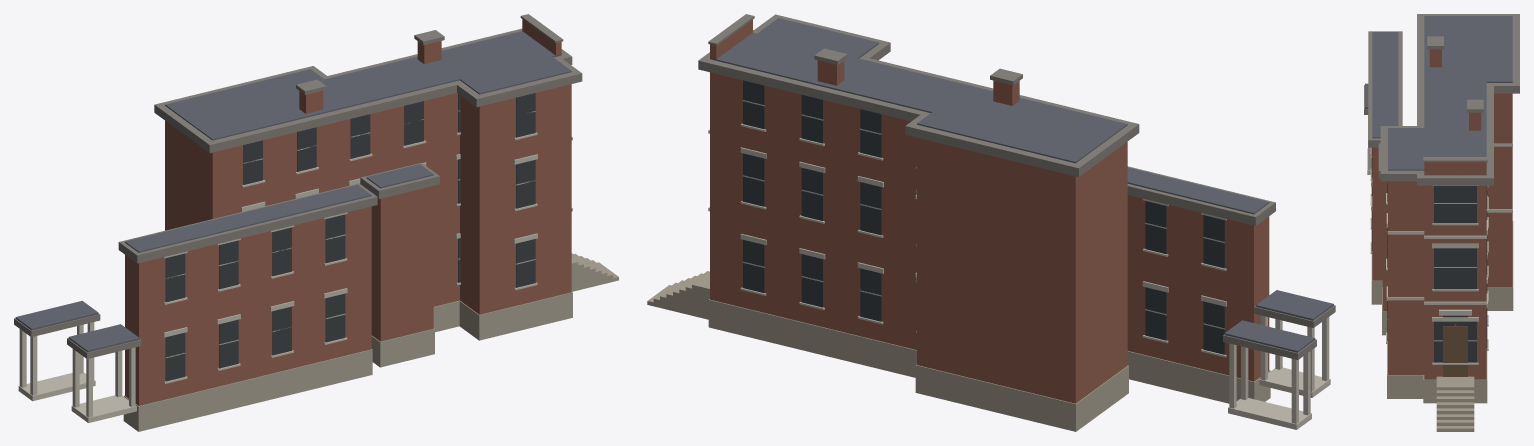
File: reid_house_2013_prairie__draft_1904.glb
The picture shows the model from 3 angles, left to right: view 1: azimuth 30°, elevation 25°; view 2: azimuth 150°, elevation 25°; view 3: azimuth 270°, elevation 25°; orthographic projection. The views are drawn at different scales.
Parts seen in each view (by area): view 1: reid_house_2013_prairie__draft_1904; view 2: reid_house_2013_prairie__draft_1904; view 3: reid_house_2013_prairie__draft_1904.
Part boxes in pixels (left/top/right/bottom): reid_house_2013_prairie__draft_1904: left=14, top=14, right=618, bottom=431; reid_house_2013_prairie__draft_1904: left=647, top=14, right=1335, bottom=431; reid_house_2013_prairie__draft_1904: left=1364, top=14, right=1519, bottom=431.
Bounding box in the file's own units: 30.45 × 13.34 × 7.5.
